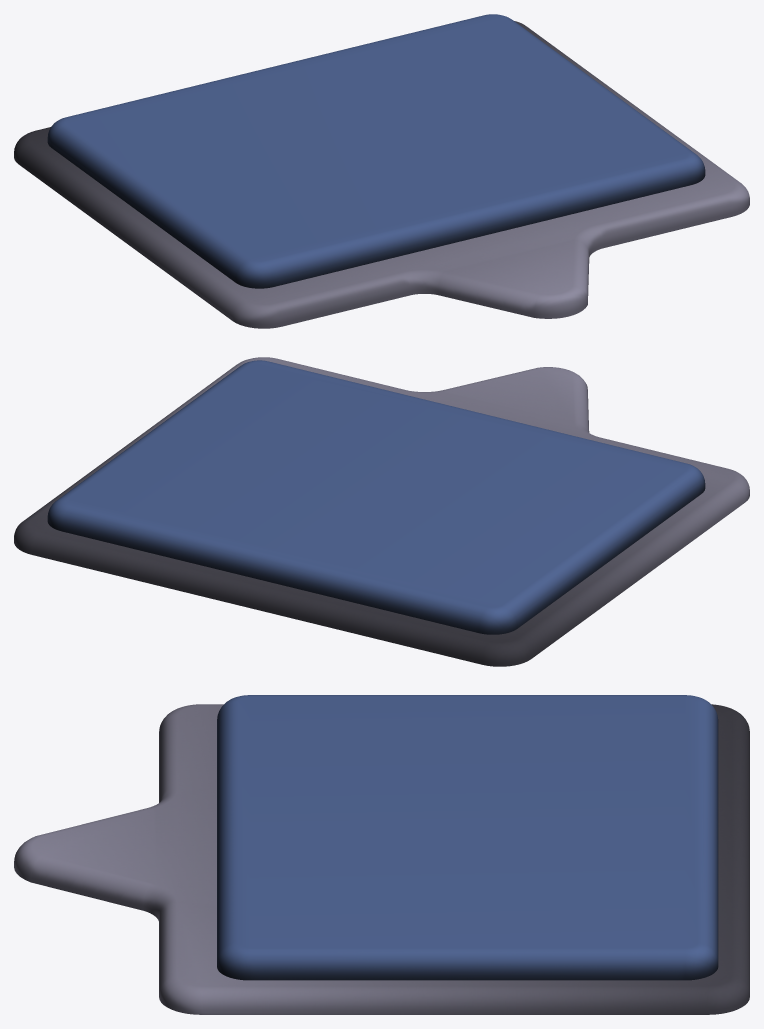
File: NewAreaOpenHud.fbx
The picture shows the model from 3 angles, top to bottom: view 1: azimuth 30°, elevation 25°; view 2: azimuth 150°, elevation 25°; view 3: azimuth 270°, elevation 25°; orthographic projection. The views are drawn at different scales.
Visible parts, largest first — view 1: Main; view 2: Main; view 3: Main.
Boxes of the visible parts, <box> form: Main: <box>14,14,749,328</box>; Main: <box>14,357,749,666</box>; Main: <box>14,695,749,1014</box>.
Size of the model in its own units: 189 by 199 by 13.24.
Materials: 1 (1 with a texture image).
